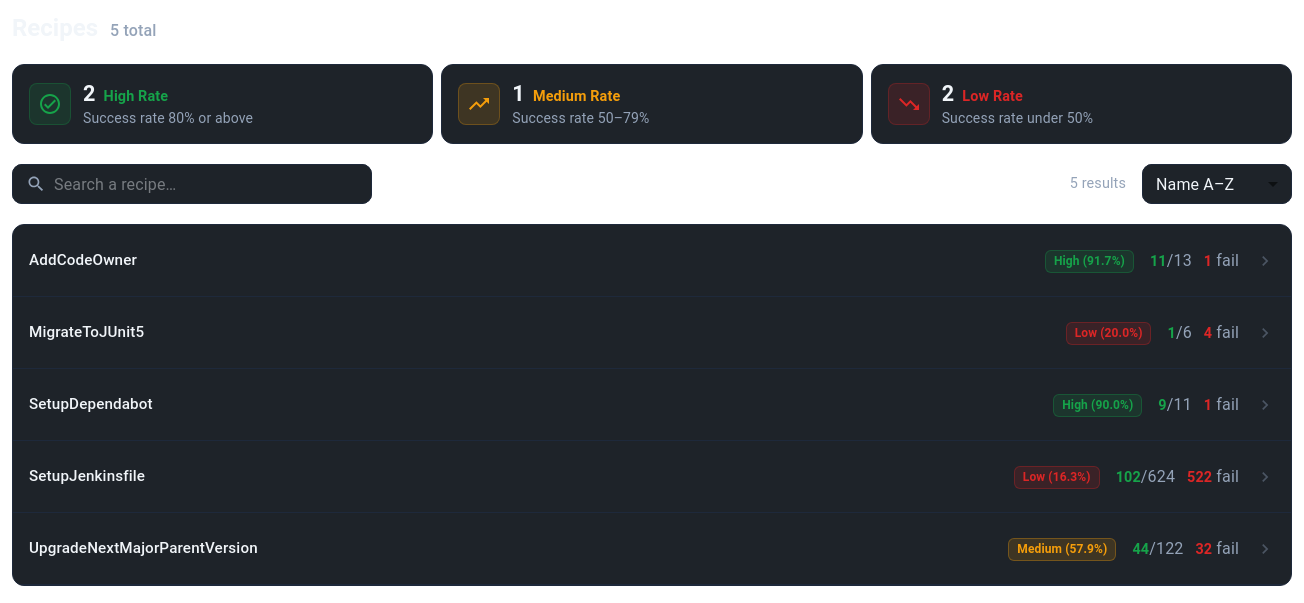
Test: RecipeList › toggles tier filter off when active card is clicked again
The width and height of the screenshot is (1304, 603).
Check: the text "AddCodeOwner" is shown, box [29,251,137,269]
Click the text "High Rate".
click(136, 97)  # box [104,88,168,105]
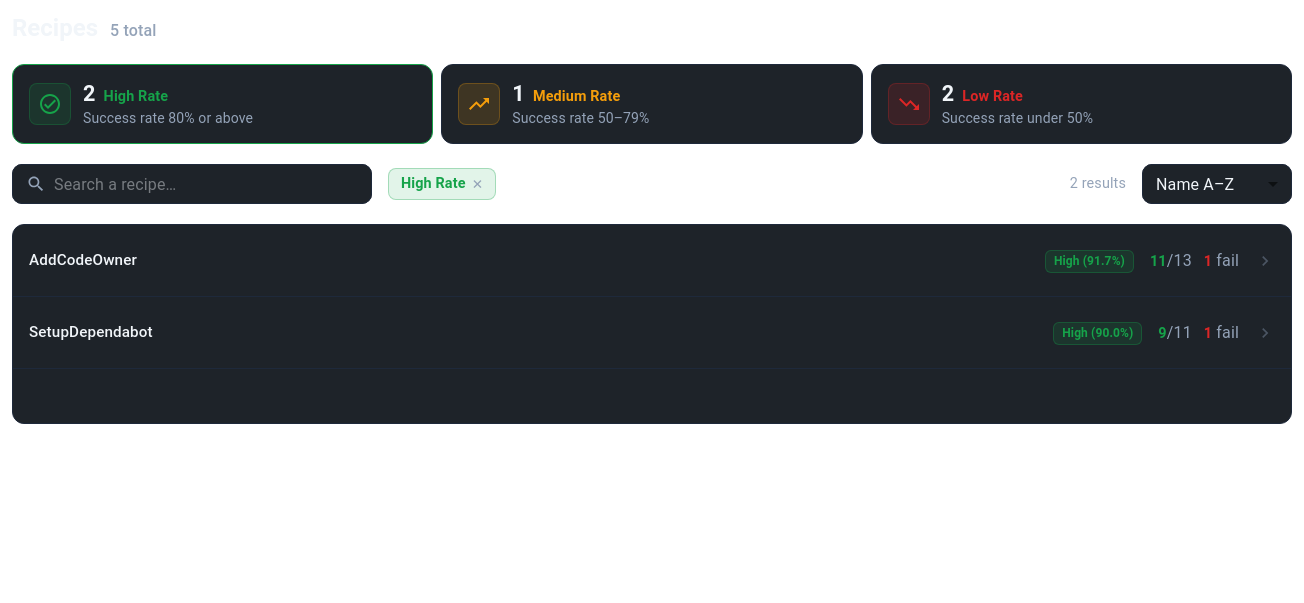
Check: the button "UpgradeNextMajorParentVersion" is gone
Check: the button "MigrateToJUnit5" is gone
Check: the button "SetupJenkinsfile" is gone
Click the 1st text "High Rate".
click(136, 97)  # box [104,88,168,105]
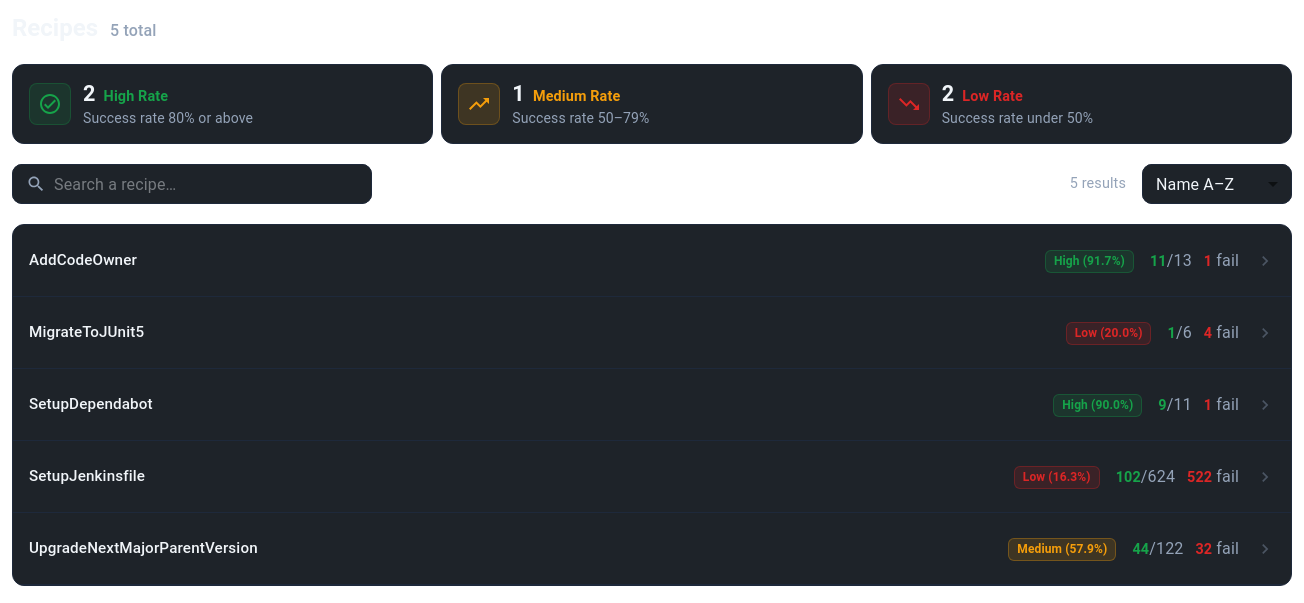
Check: the text "UpgradeNextMajorParentVersion" is shown, box [29,539,258,557]
Check: the text "MigrateToJUnit5" is shown, box [29,323,144,341]
Check: the text "SetupJenkinsfile" is shown, box [29,467,145,485]
